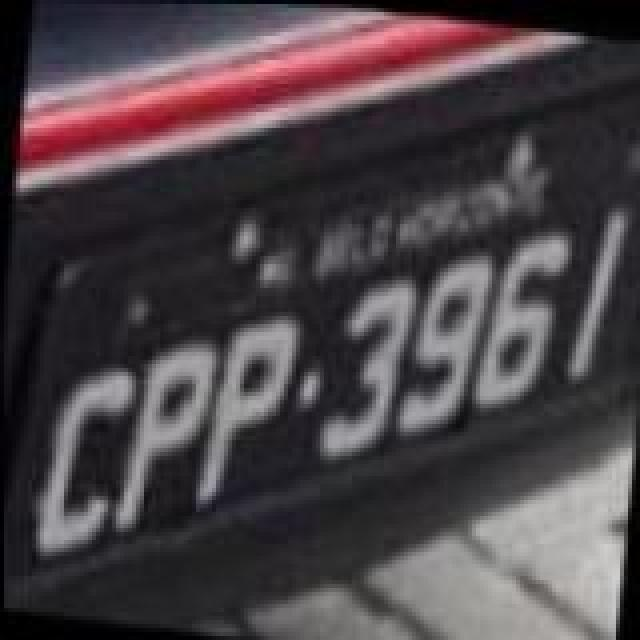1: (560, 192, 632, 384)
3: (308, 262, 420, 470)
6: (464, 220, 572, 420)
9: (388, 242, 496, 450)
C: (24, 360, 136, 568)
P: (106, 326, 218, 546), (190, 300, 302, 516)
